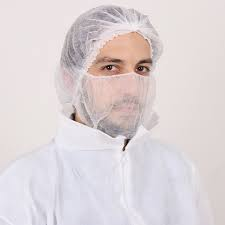with_mask_and_cap: (67, 7, 156, 137)
